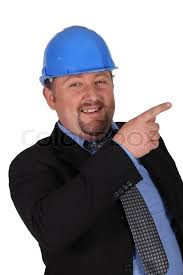Person_wearing_helmet: (38, 17, 120, 97)
